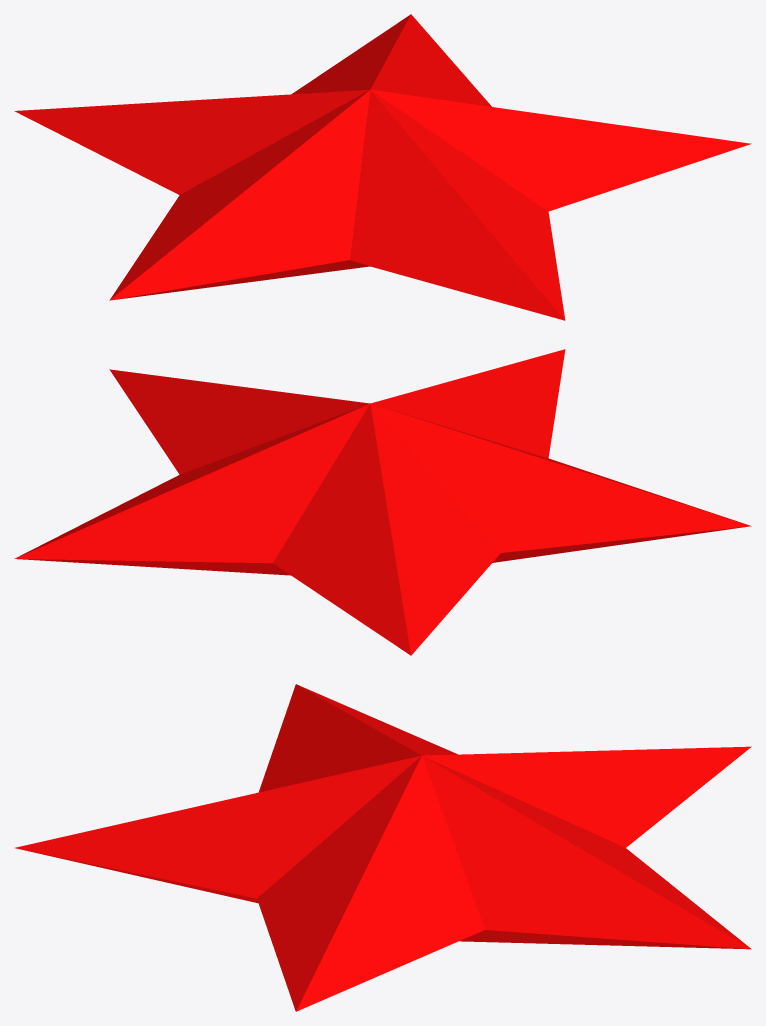
File: star_red.glb
The picture shows the model from 3 angles, top to bottom: view 1: azimuth 30°, elevation 25°; view 2: azimuth 150°, elevation 25°; view 3: azimuth 270°, elevation 25°; orthographic projection. The views are drawn at different scales.
Visible parts, largest first — view 1: 円, 円.001; view 2: 円, 円.001; view 3: 円, 円.001.
Boxes of the visible parts, left/top/right/bottom form: 円: left=14, top=14, right=751, bottom=320; 円.001: left=112, top=260, right=529, bottom=310; 円: left=14, top=349, right=751, bottom=655; 円.001: left=17, top=526, right=749, bottom=575; 円: left=15, top=684, right=751, bottom=1011; 円.001: left=19, top=849, right=749, bottom=949.
Size of the model in its own units: 0.3805 by 0.1 by 0.3618.
